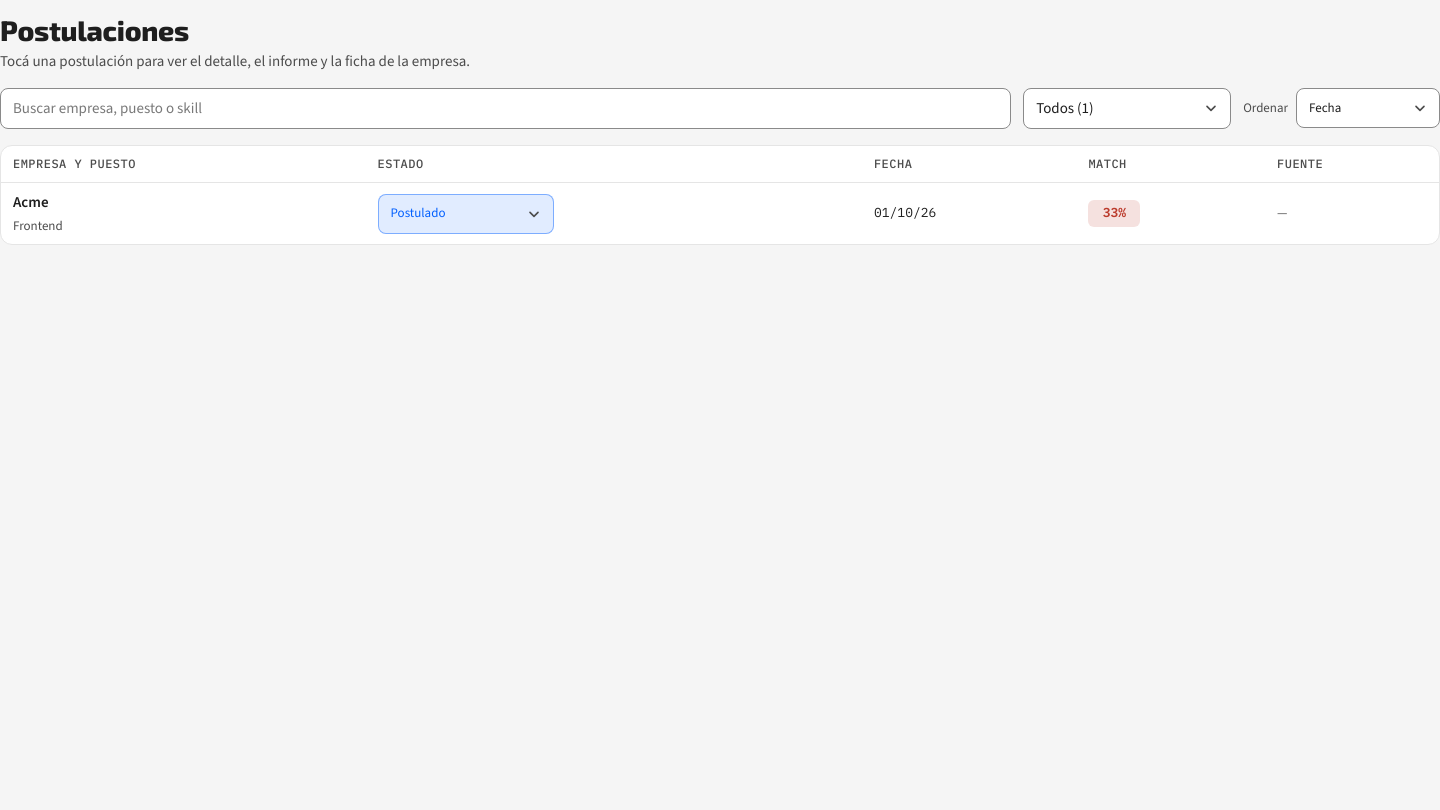
it: ApplicationsTab › list › opens an application from the keyboard-reachable company button
Step 1. Click the button "Acme Frontend" → click(38, 214), box 13,191 -> 63,236
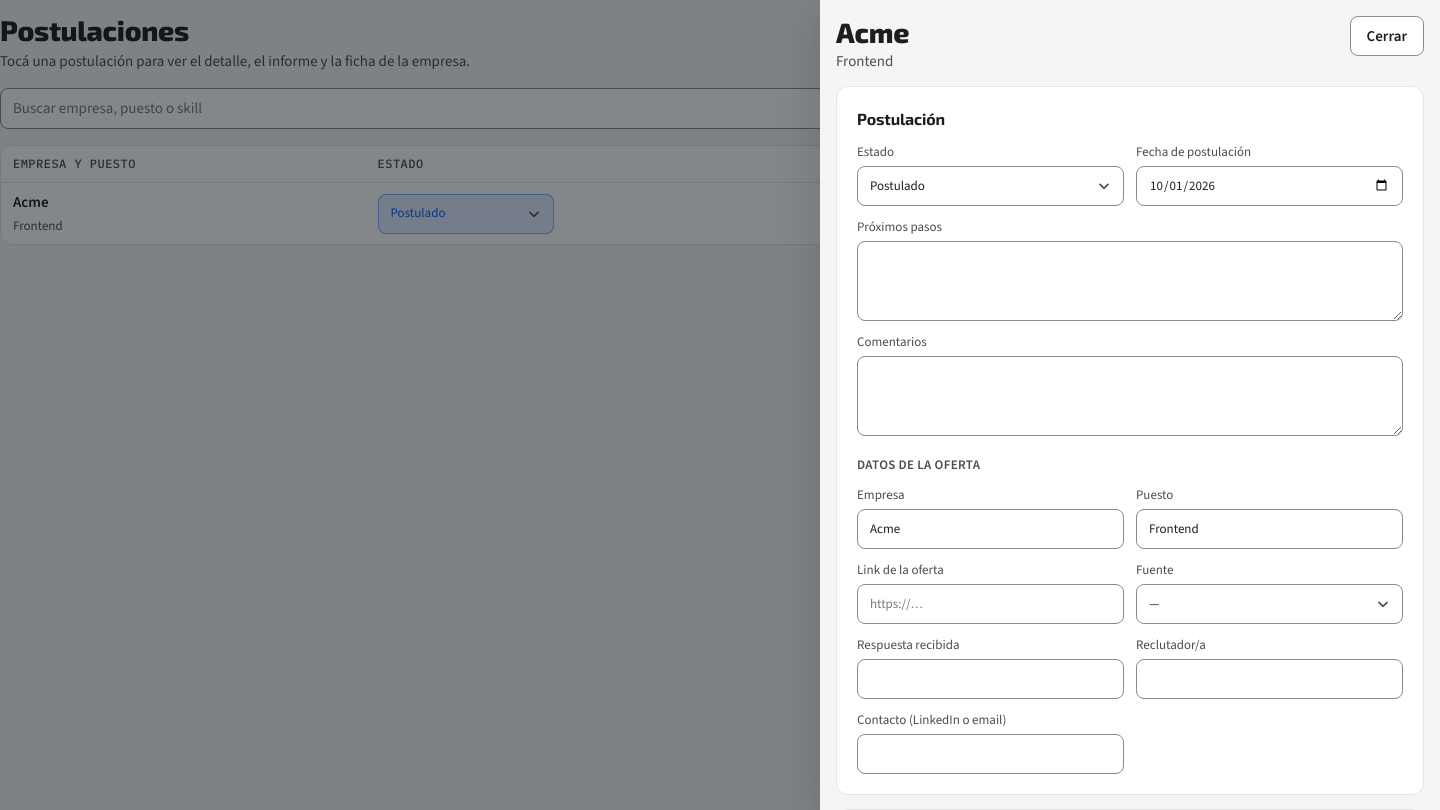
Now the element named "Detalle de postulación" is shown, box 820,0 -> 1439,809
